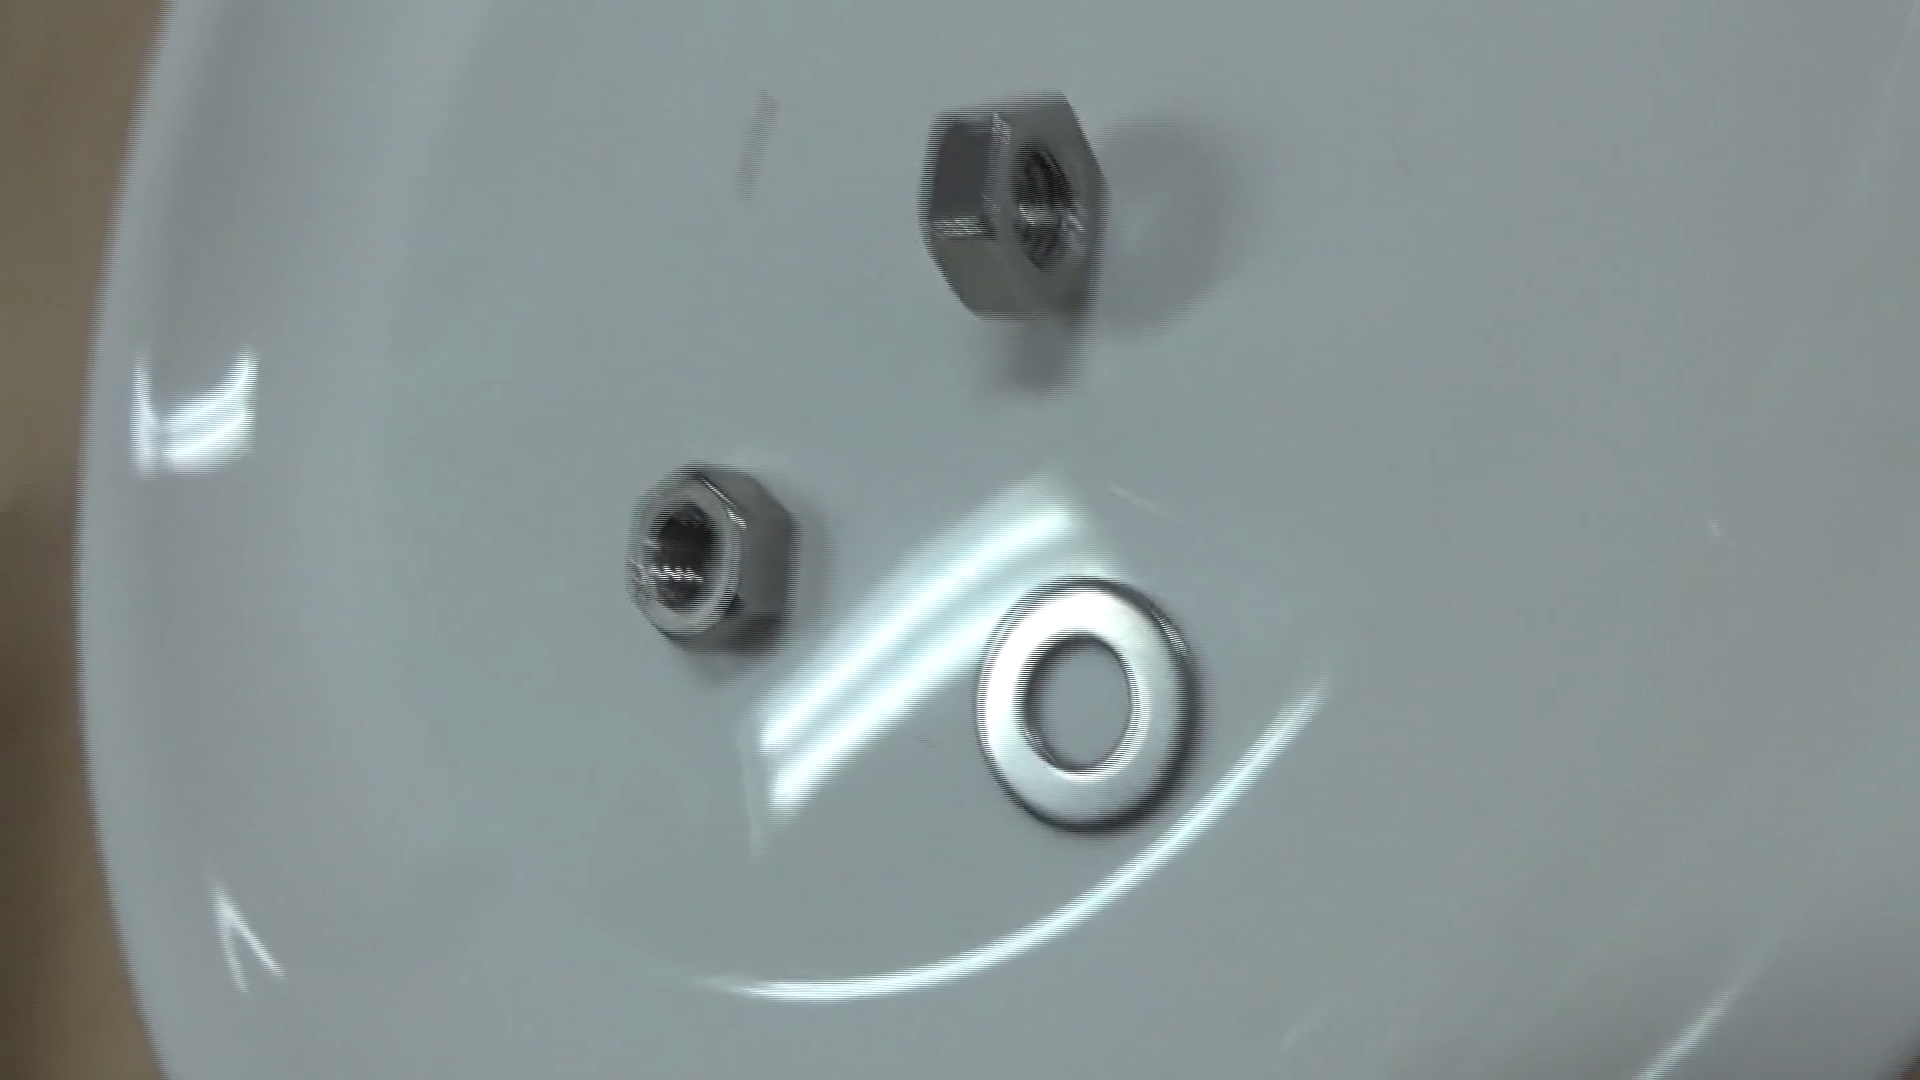nut: (874, 79, 1135, 340), (608, 448, 818, 676)
washer: (948, 564, 1218, 847)
